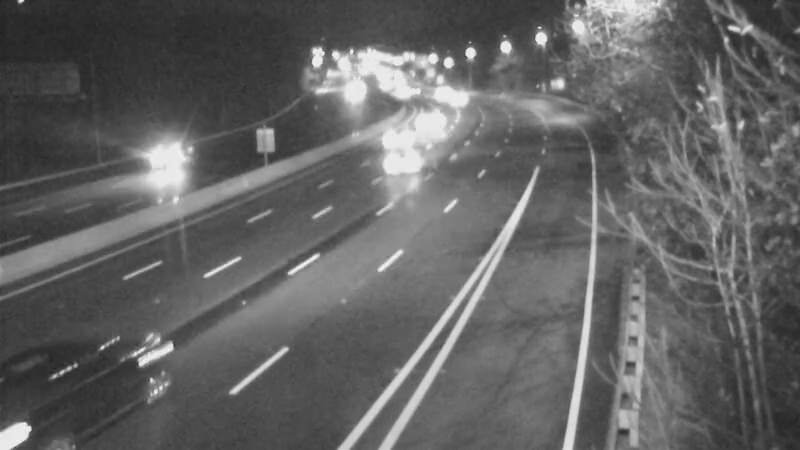vehicle: (21, 338, 131, 448), (373, 124, 453, 204), (119, 116, 199, 196), (417, 67, 467, 117), (429, 75, 479, 125), (407, 95, 457, 145), (375, 111, 425, 161), (331, 68, 381, 118)
